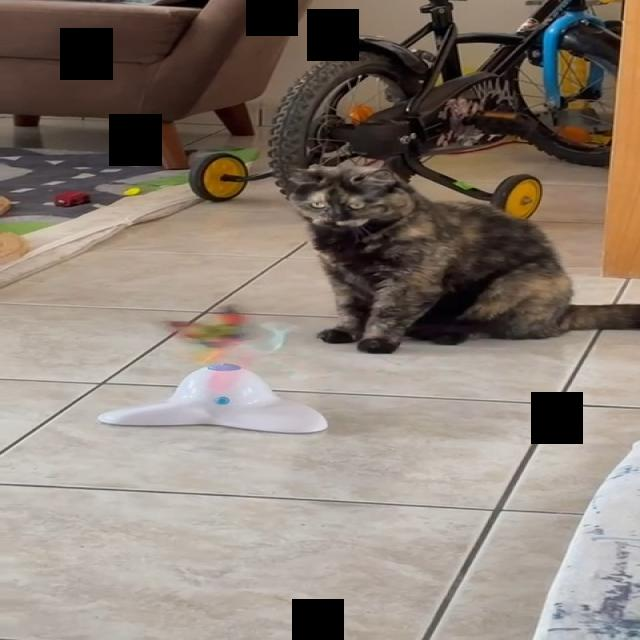authorized: (281, 161, 639, 354)
